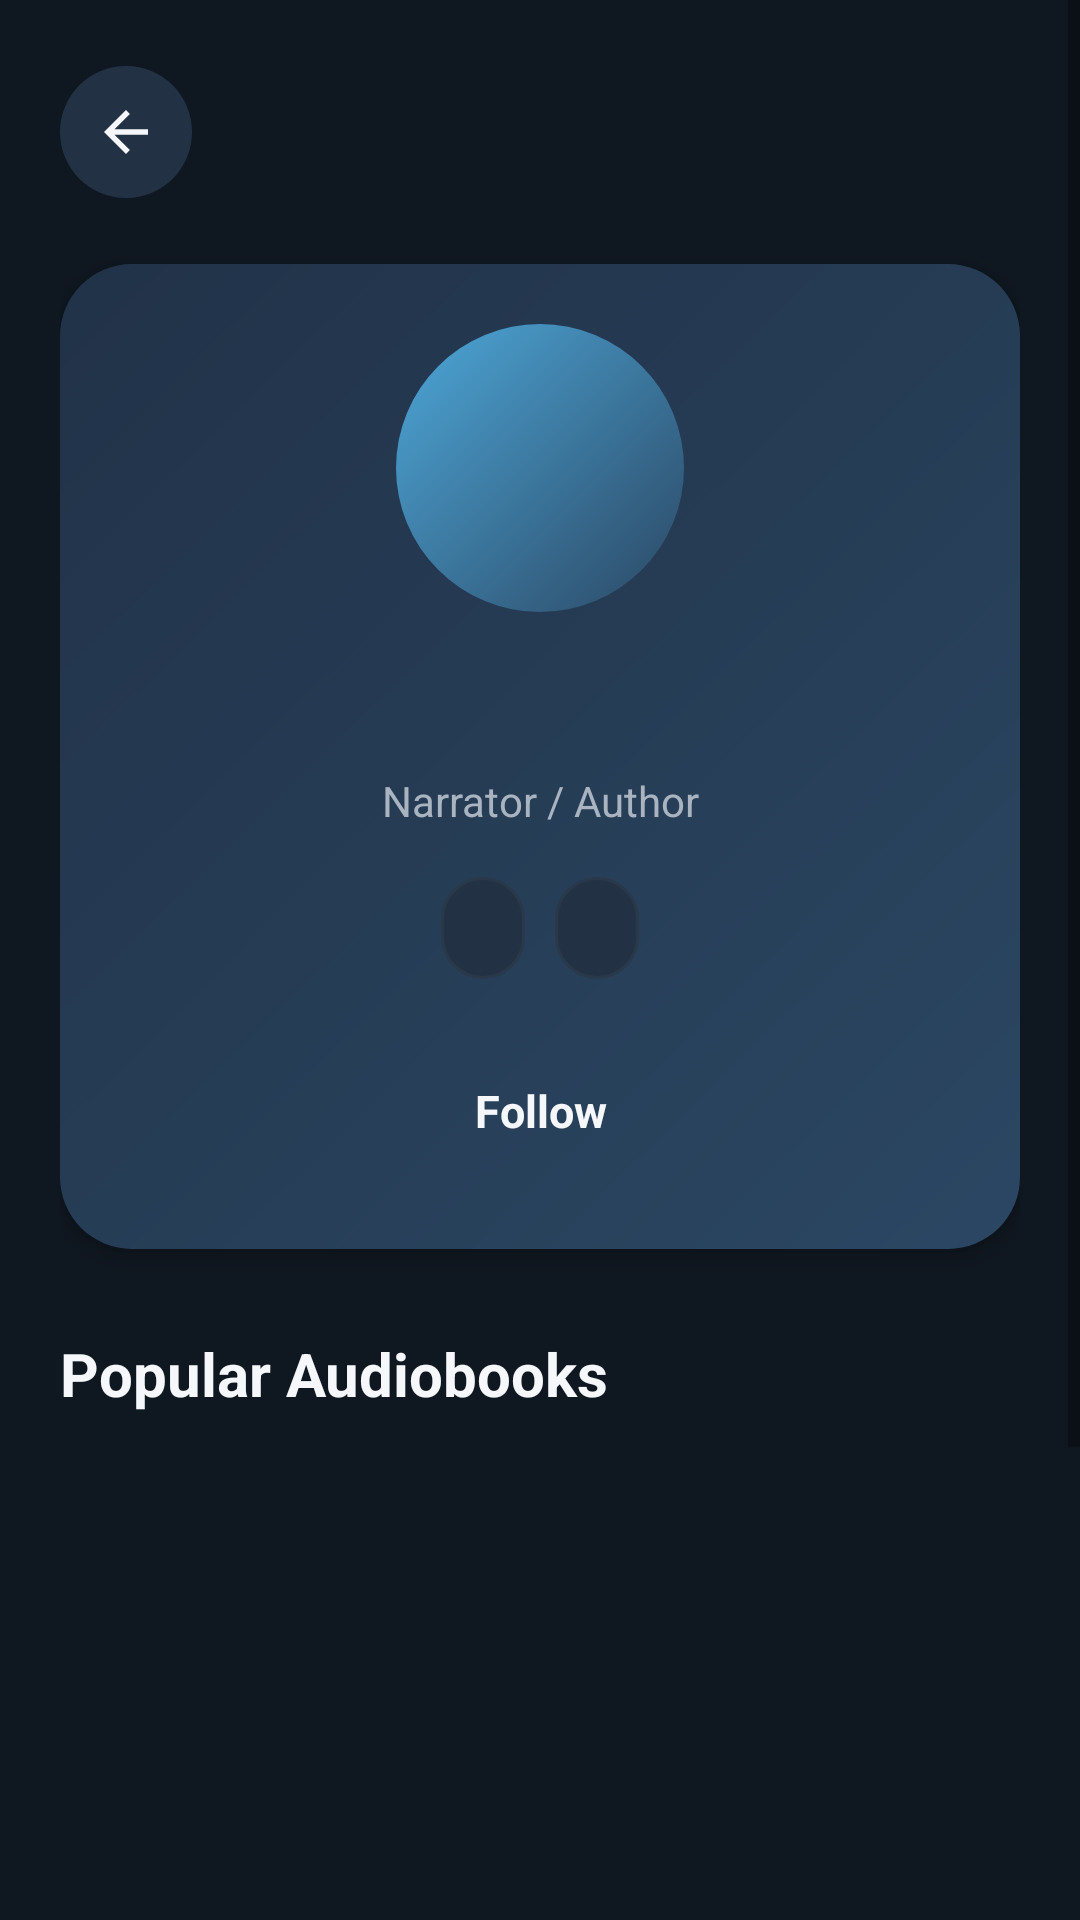

Named icons in this screenshot (1080×1920) and their bounding boxes, (x1, y1, x2, y2):
Back: (60, 66, 192, 198)
